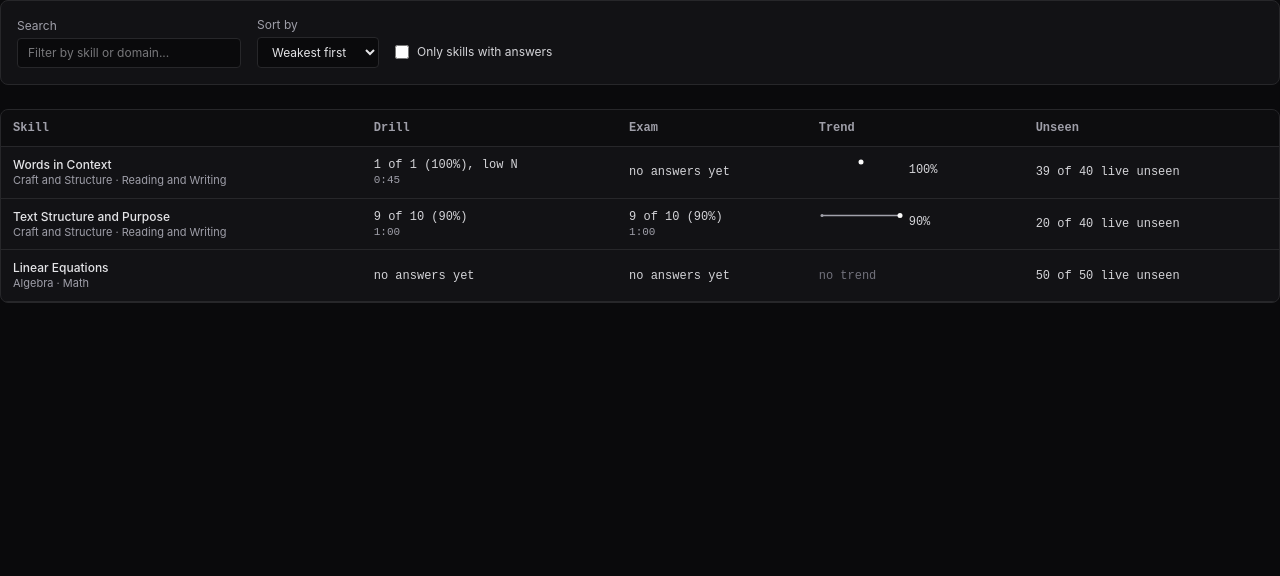
Test: SkillsScreen › shows "This question is no longer in the bank" when loadQuestion returns null
Click the button "Words in Context" at (62, 165), box [13,157,112,173]
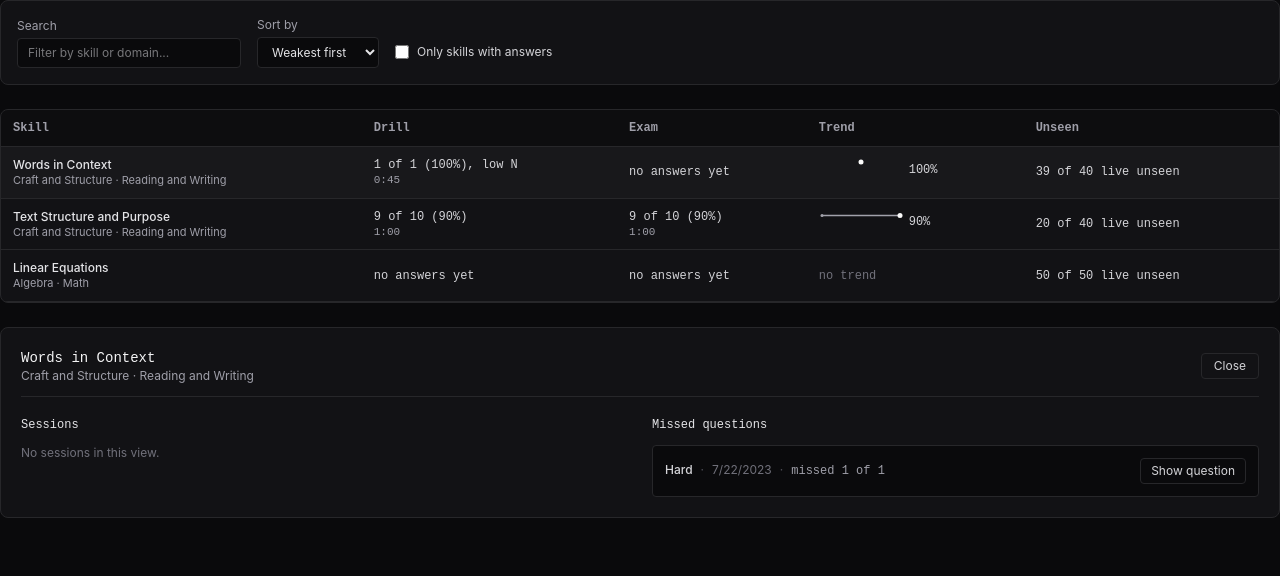
Click the button "Show question" at (1193, 471), box [1140,458,1246,484]
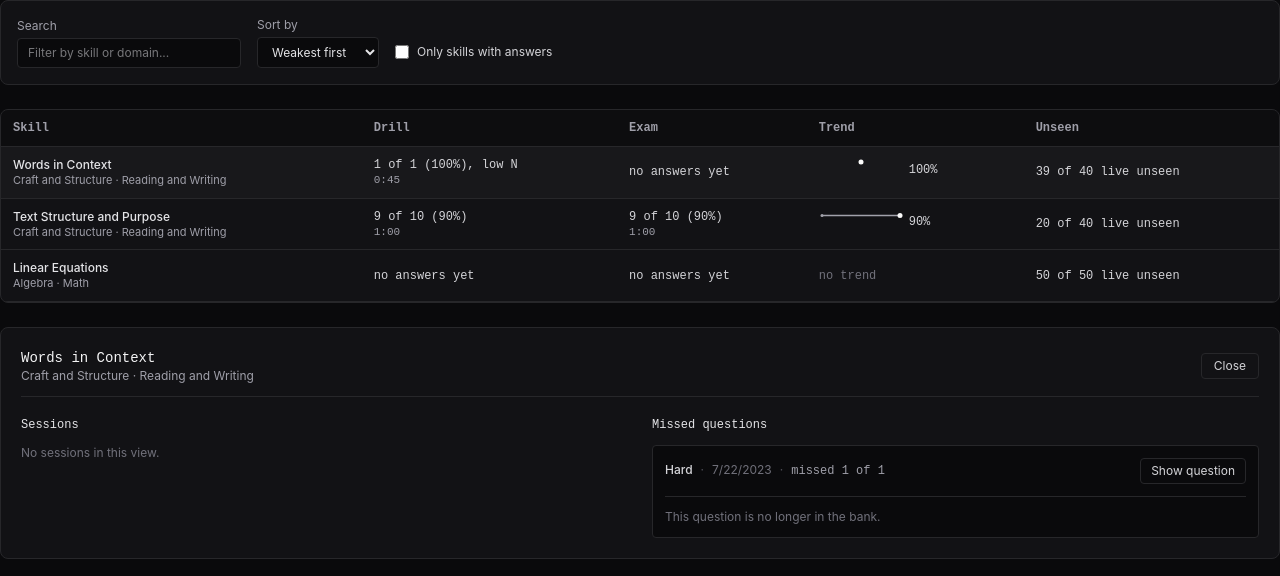
Expected: the text "This question is no longer in the bank." is shown, [665,509,880,524]
